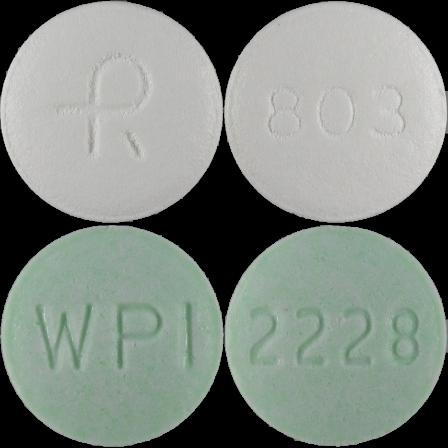42254-183: (0, 0, 224, 224)
